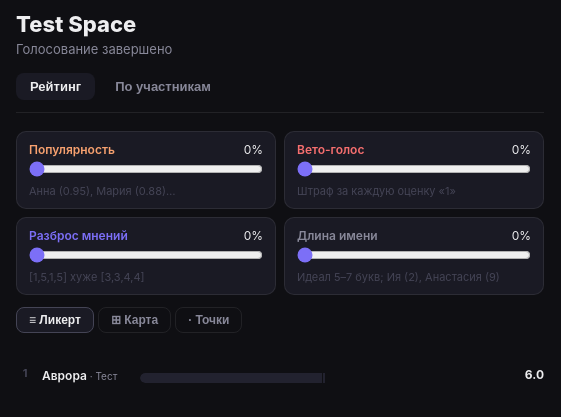
Test: ResultsView — rating lookups survive a corrupt/out-of-range score (task #11 / M18) › does NOT crash on an out-of-range score — heat view
This screenshot has width=561, height=417.
Click the button "⊞ Карта" at {"x": 135, "y": 320}, box [98,307,171,333]
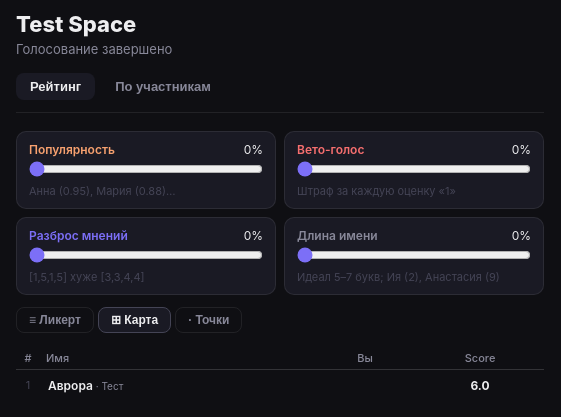
Expected: the table with class "heat-table" is shown, [16,347,544,400]
